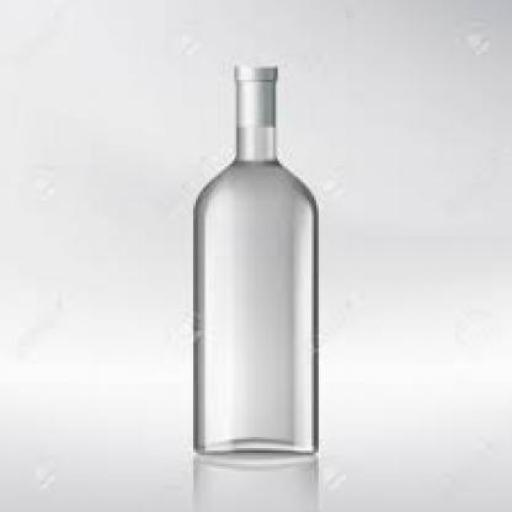glass: (191, 64, 314, 458)
